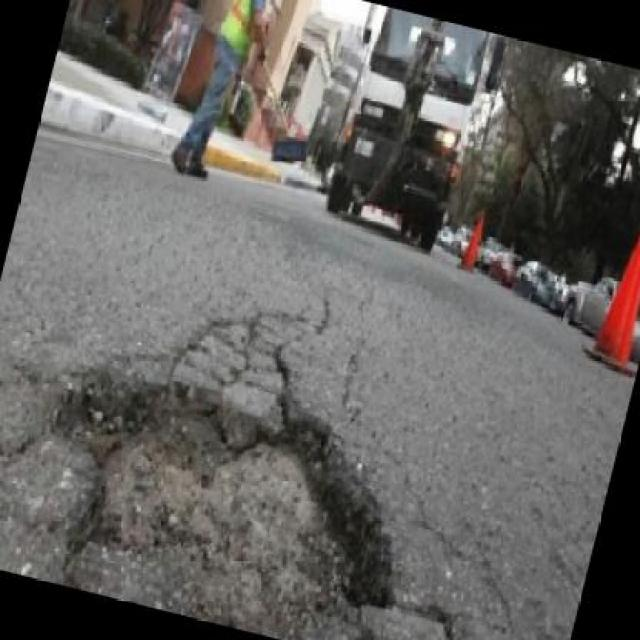pothole1: (8, 338, 442, 638)
